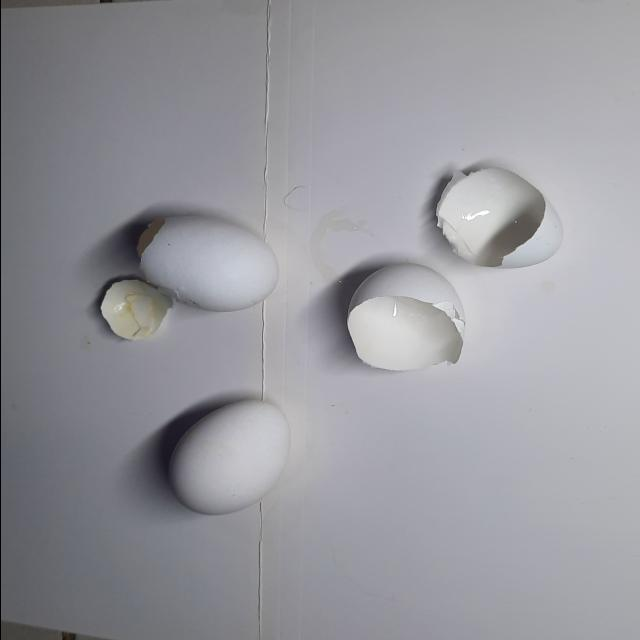egg shell: (162, 396, 295, 518), (131, 212, 281, 314), (338, 260, 471, 374), (430, 165, 568, 273), (96, 277, 171, 340)
